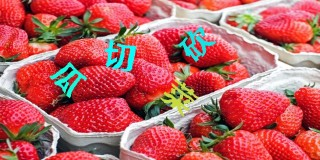切: (104, 39, 138, 73)
瓜: (48, 61, 88, 98)
砍: (176, 26, 217, 62)
菜: (159, 78, 199, 117)
